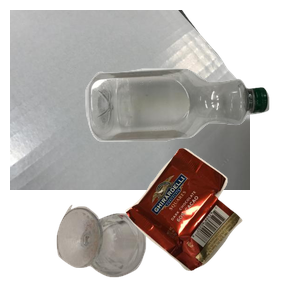cardboard: (10, 10, 250, 190)
glass: (54, 202, 193, 300)
plastic: (83, 66, 300, 201)
trash: (123, 145, 300, 300)
